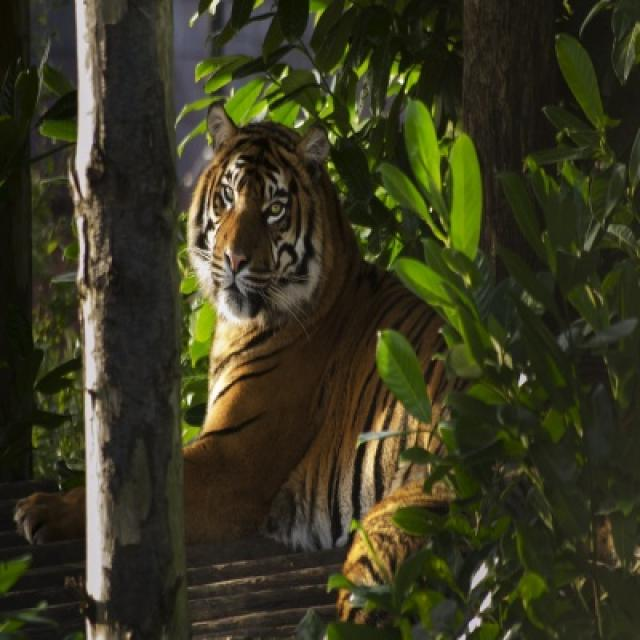Tiger: (177, 102, 459, 547)
